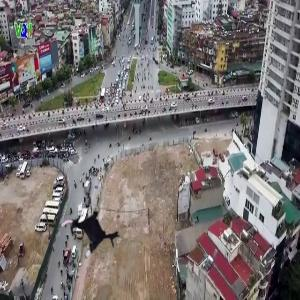drone: (58, 202, 125, 269)
